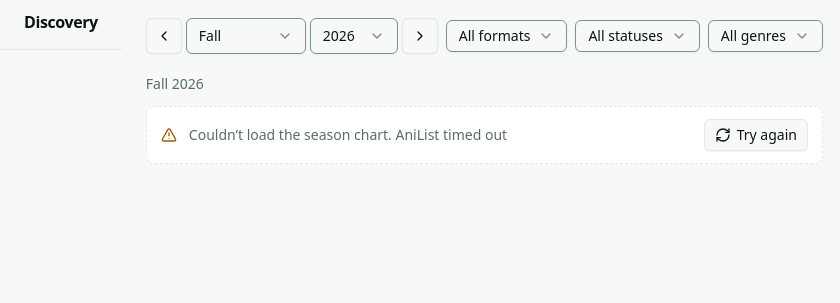
Scenario: DiscoveryPage › says the season is empty, and offers to retry a chart that failed
Expected: the text "Couldn’t load the season chart. AniList timed out" is shown, [189,125,507,144]
Click the button "Try again". click: {"x": 756, "y": 135}
box: [704,119,808,151]
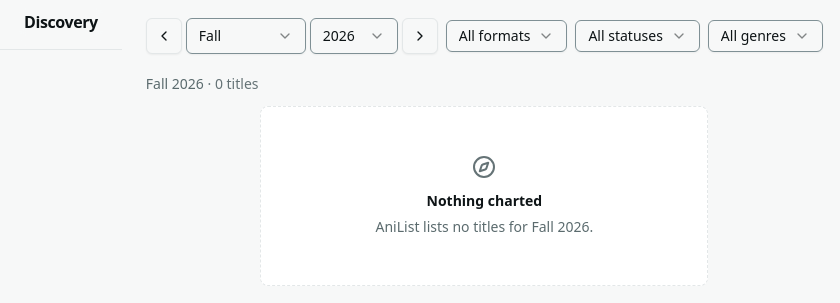
Result: the heading "Nothing charted" is shown at [426,191,542,211]
